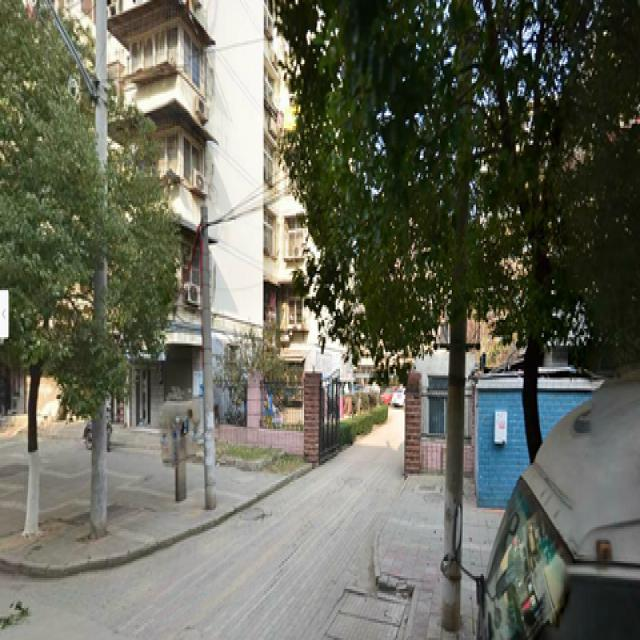cinn: (325, 8, 612, 527), (1, 11, 136, 524)
